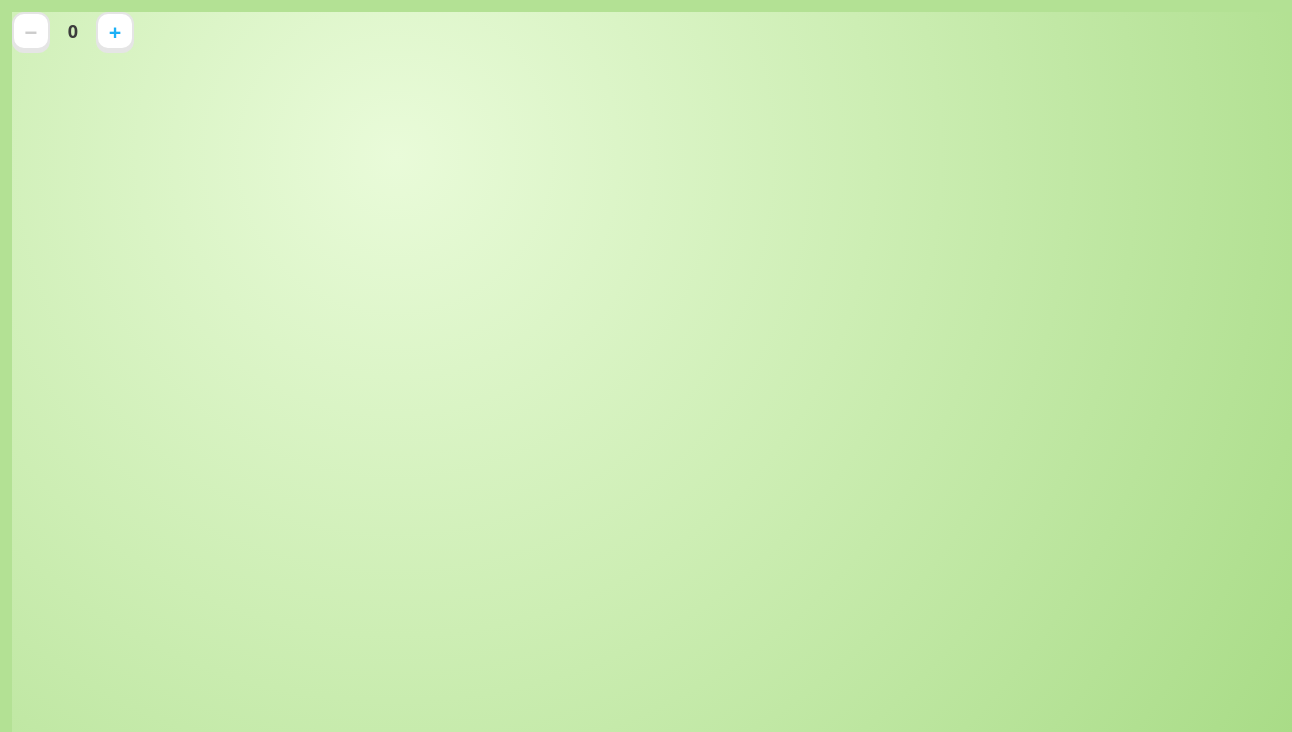
Test: Stepper (SCH-02) › "+" and "−" change the value by one integer
Click the button named "Aumentar Celular" at {"x": 115, "y": 31}, box x1=96 y1=12 x2=134 y2=50
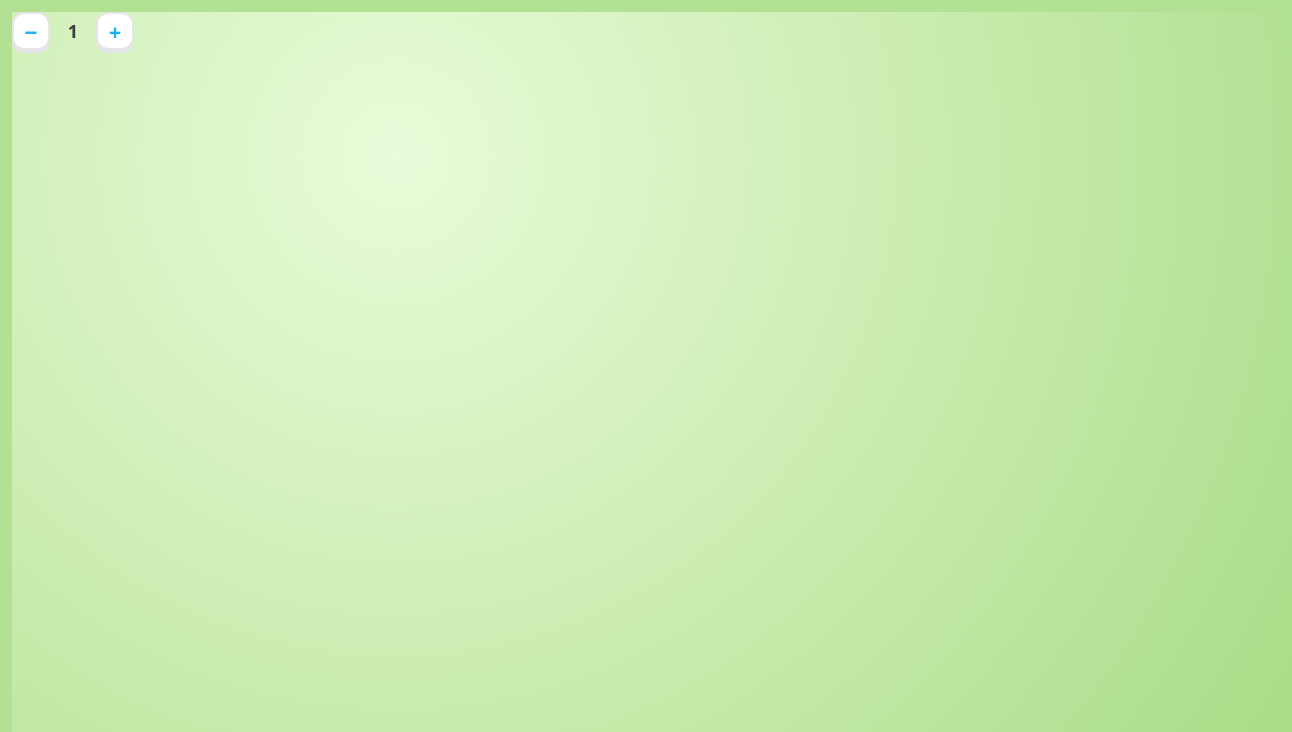
Click the button named "Aumentar Celular" at {"x": 115, "y": 31}, box x1=96 y1=12 x2=134 y2=50
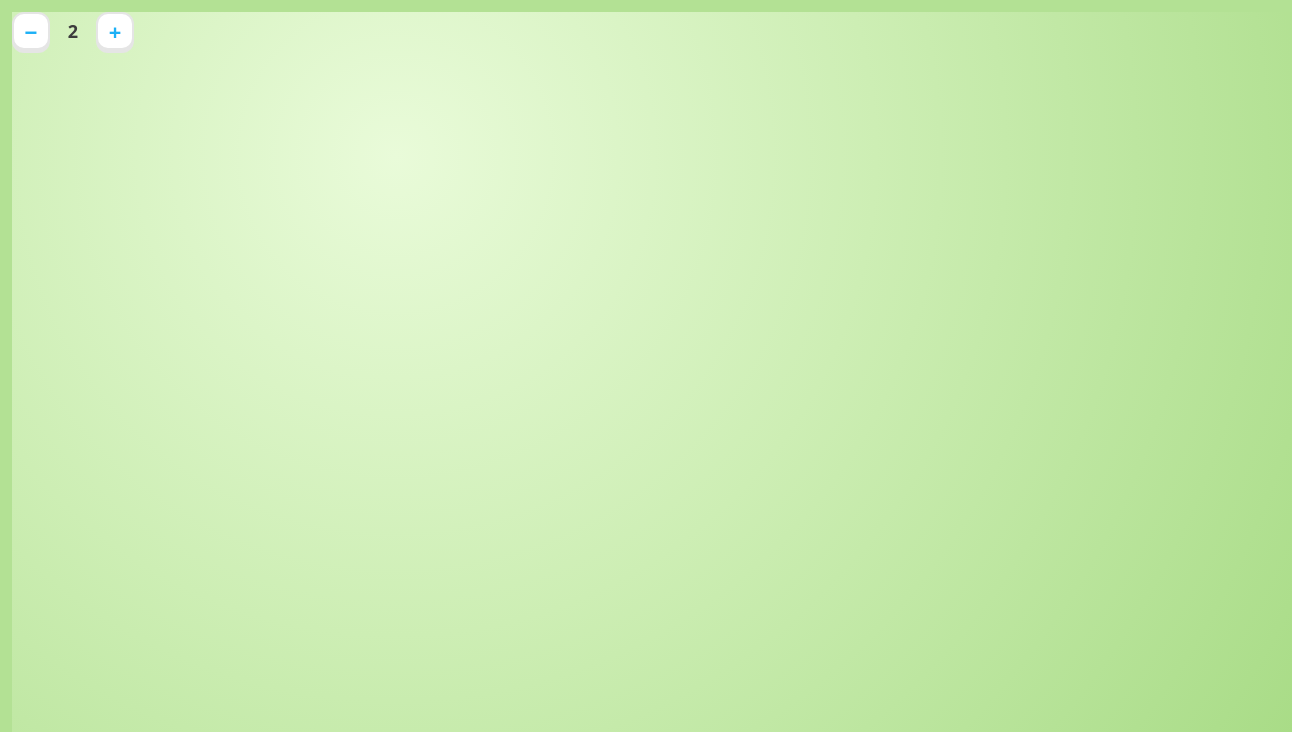
Expected: the text with test id "stepper-value" reads "2", x1=68 y1=19 x2=78 y2=43
Click the button named "Diminuir Celular" at {"x": 31, "y": 31}, box x1=12 y1=12 x2=50 y2=50
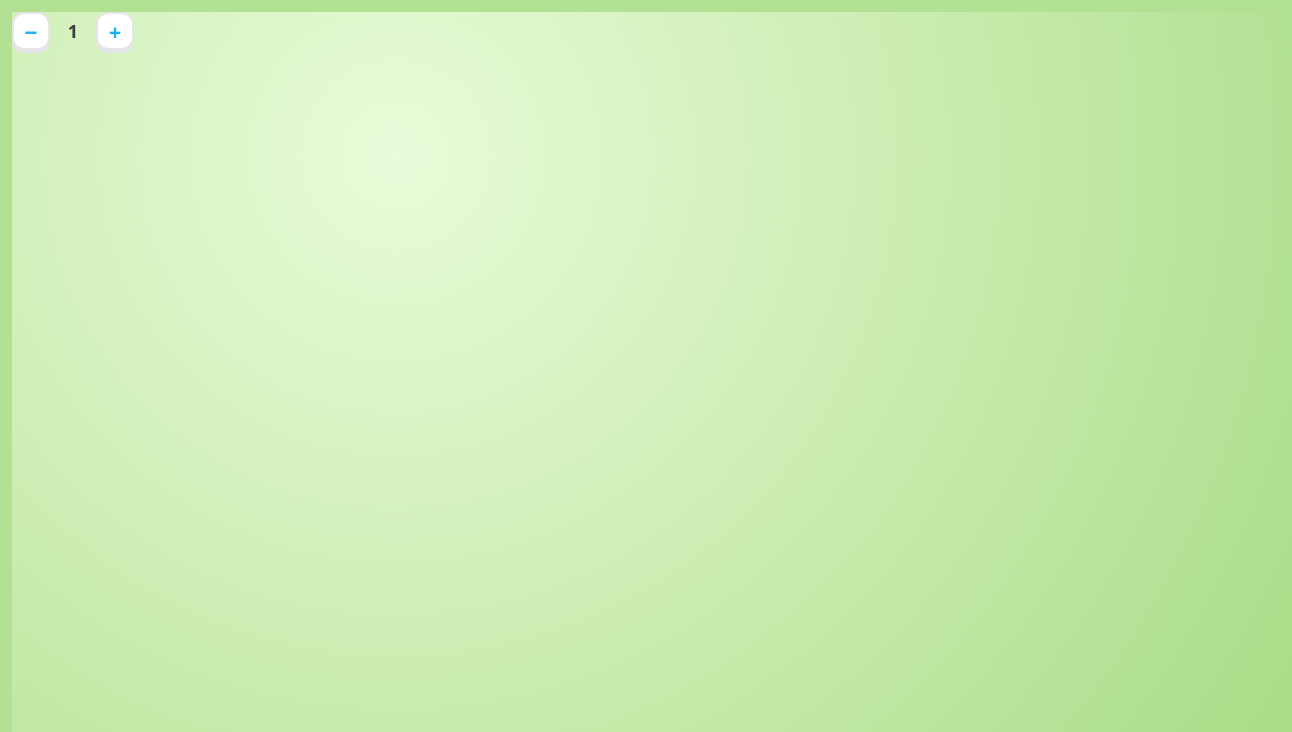
Expected: the text with test id "stepper-value" reads "1", x1=68 y1=19 x2=78 y2=43
